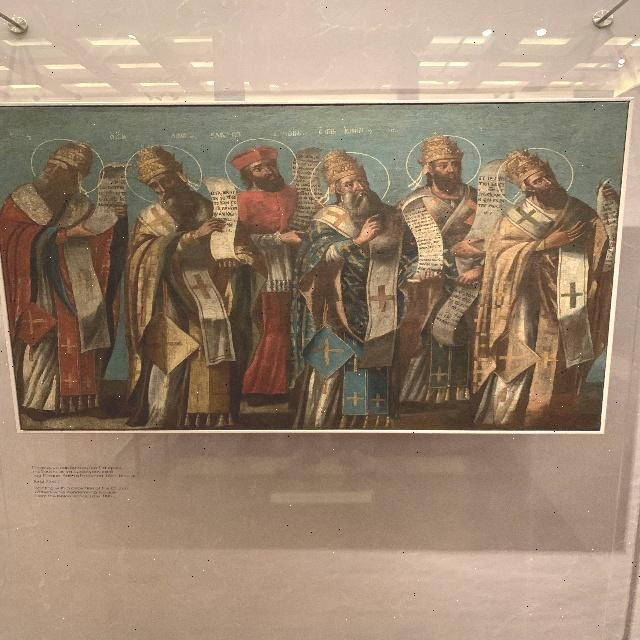aura: (307, 149, 392, 208), (126, 139, 204, 202), (28, 132, 104, 195), (401, 131, 483, 189), (495, 145, 575, 204), (222, 134, 300, 189)
church_father: (4, 124, 138, 425), (487, 128, 619, 422), (127, 135, 242, 421), (299, 136, 398, 422), (400, 124, 483, 422), (225, 129, 297, 422)
cross: (511, 203, 543, 235), (369, 285, 397, 318), (145, 207, 175, 237), (561, 280, 584, 315), (191, 272, 216, 304), (327, 210, 353, 233)
crown: (134, 145, 184, 185), (506, 147, 554, 181), (50, 139, 97, 172), (418, 132, 462, 167), (321, 150, 367, 183)
scroll: (466, 158, 512, 246), (86, 161, 138, 234), (400, 196, 441, 284), (430, 279, 481, 346), (204, 175, 238, 261), (594, 178, 623, 275), (294, 147, 322, 224)
